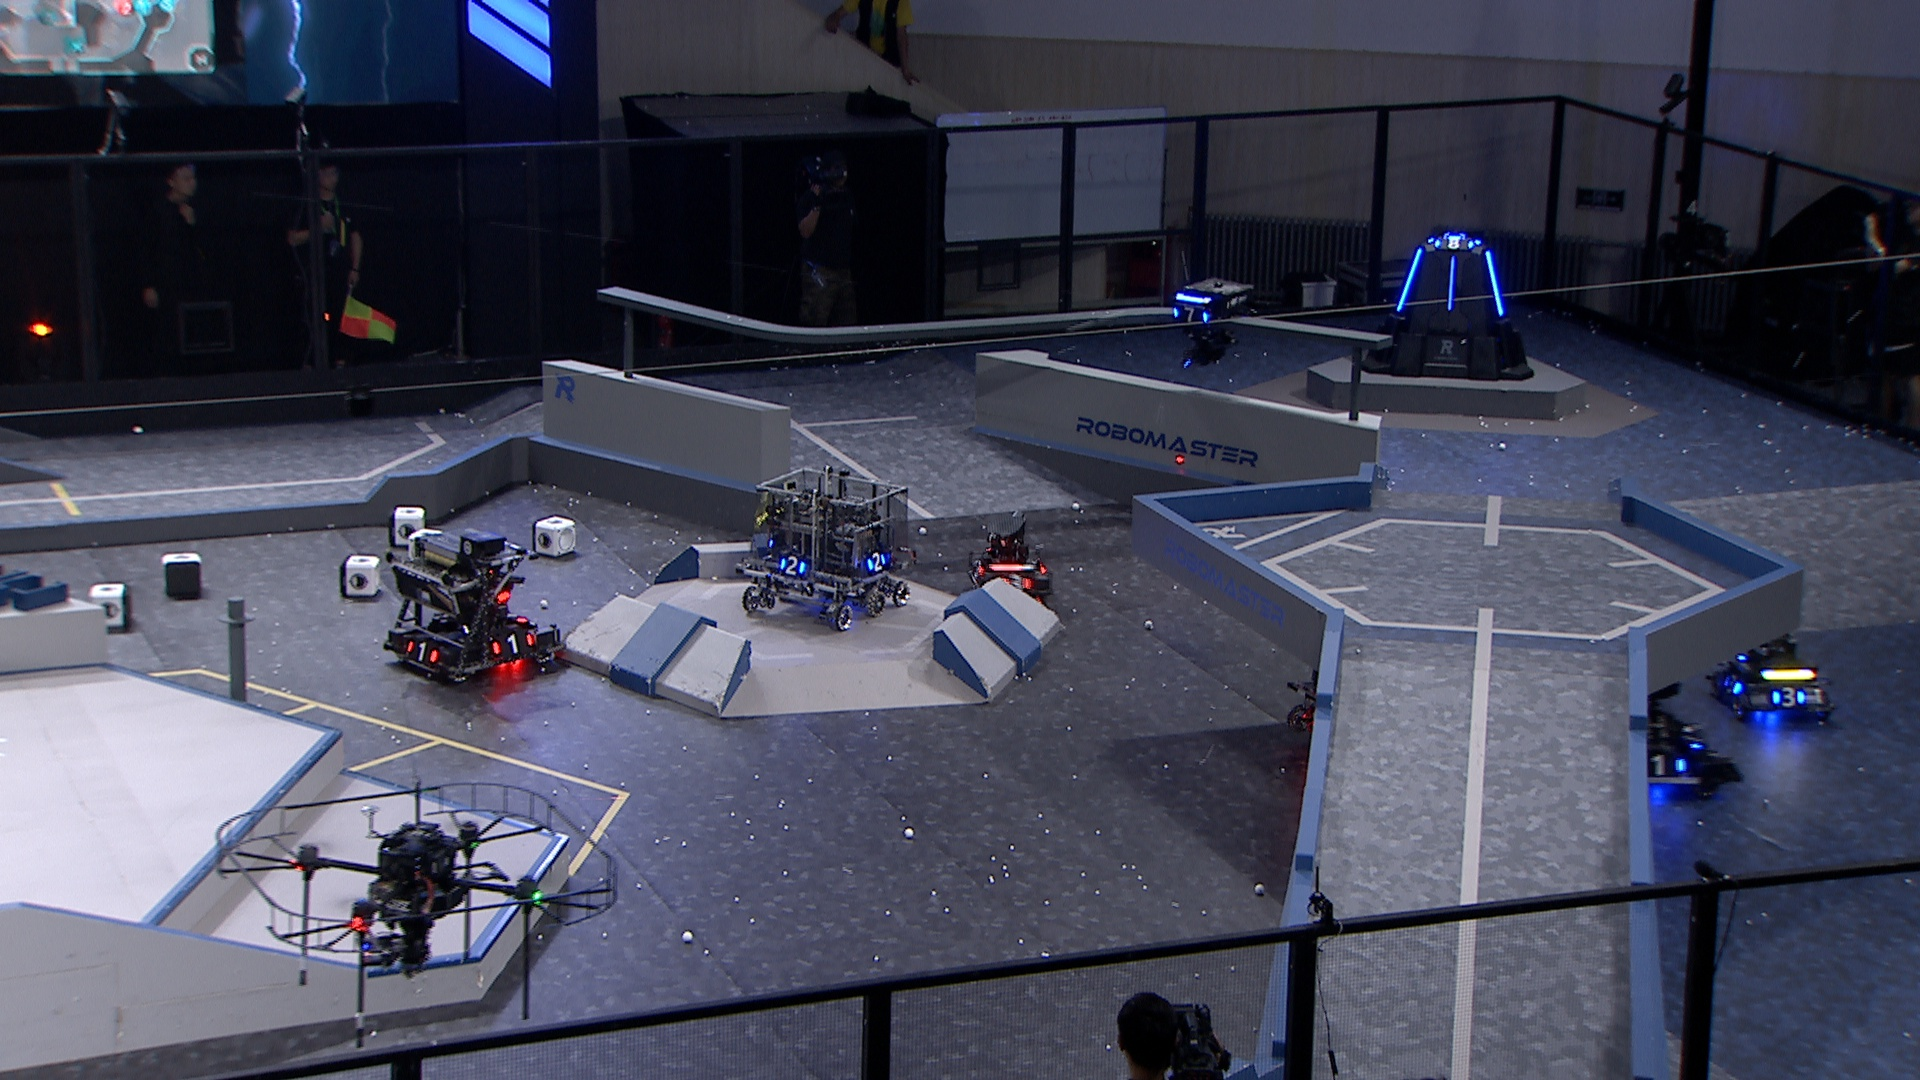armor: (1394, 247, 1423, 314), (1484, 249, 1509, 316), (487, 632, 537, 659), (1640, 756, 1689, 779), (1768, 684, 1807, 711), (405, 638, 440, 666), (1444, 256, 1460, 310), (1171, 305, 1212, 324), (778, 553, 807, 579), (1432, 237, 1477, 253), (1002, 572, 1035, 593), (862, 549, 887, 572), (1720, 673, 1743, 698), (1683, 731, 1708, 752), (969, 559, 989, 579), (501, 612, 527, 624)
base: (1352, 228, 1534, 381)
car: (732, 462, 916, 632), (378, 526, 568, 687), (1584, 673, 1737, 807), (1709, 622, 1836, 723), (961, 517, 1054, 603)
watcher: (1162, 277, 1258, 368)
